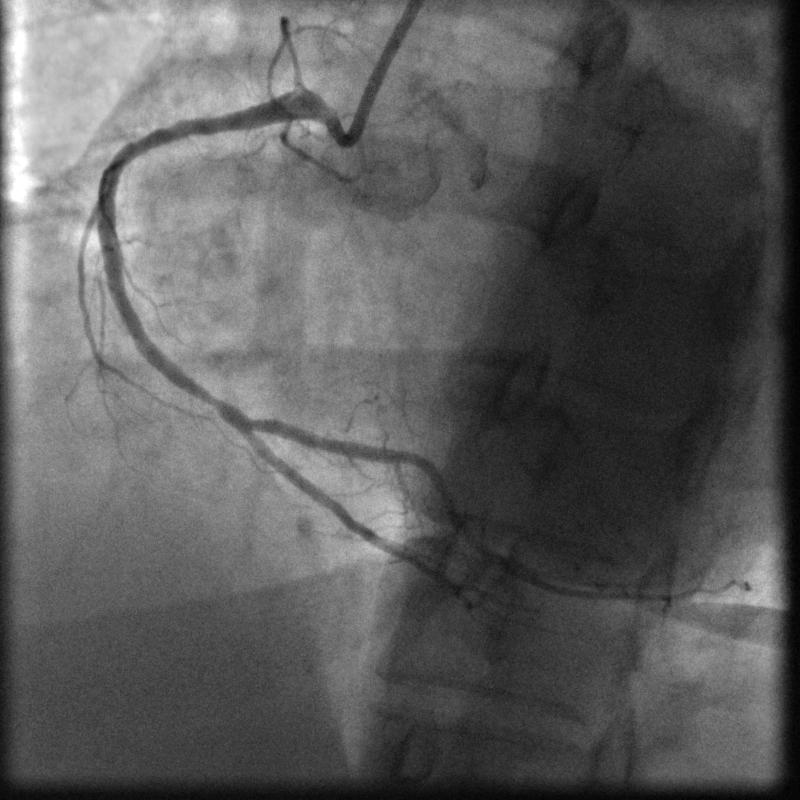Stenosis: (195, 373, 225, 427)
